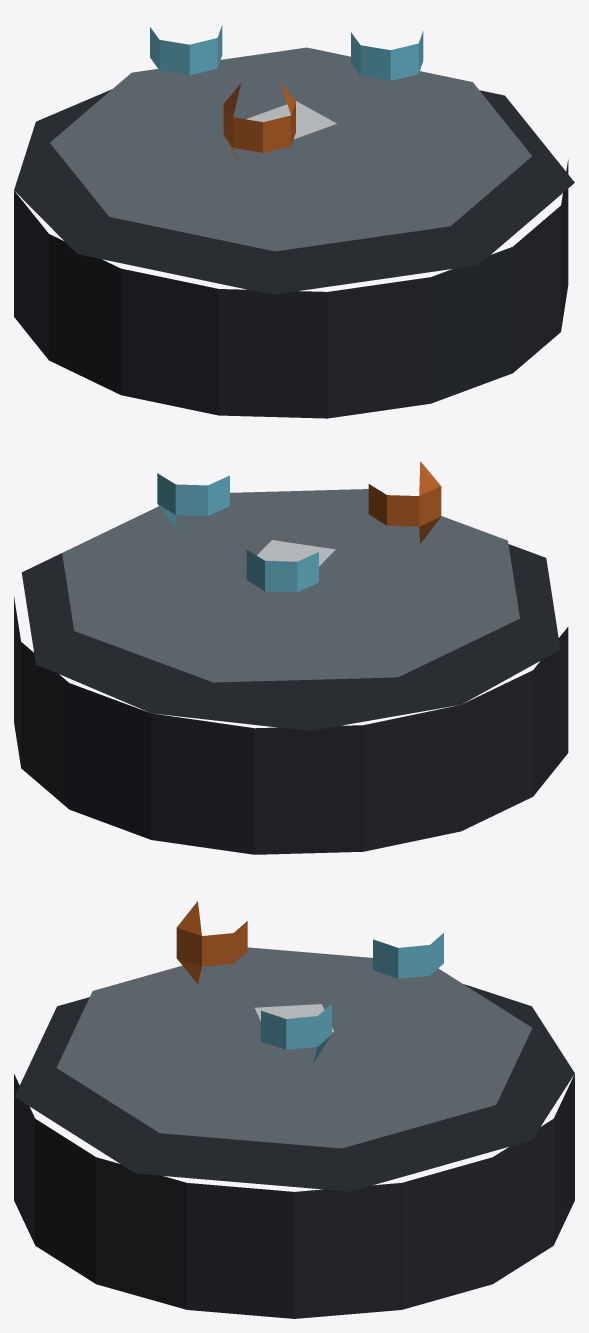
The model's file is dejarik-set.lod.glb.
3 views of the same model, one above another, from view 1: azimuth 30°, elevation 25°; view 2: azimuth 150°, elevation 25°; view 3: azimuth 270°, elevation 25° (orthographic).
Parts seen in each view (by area): view 1: m; view 2: m; view 3: m.
Part boxes in pixels (box(x1,y1,x2,y2)): m: box(14, 25, 574, 418); m: box(14, 461, 568, 854); m: box(14, 901, 574, 1318).
Bounding box in the file's own units: 0.2 × 0.1065 × 0.2.
